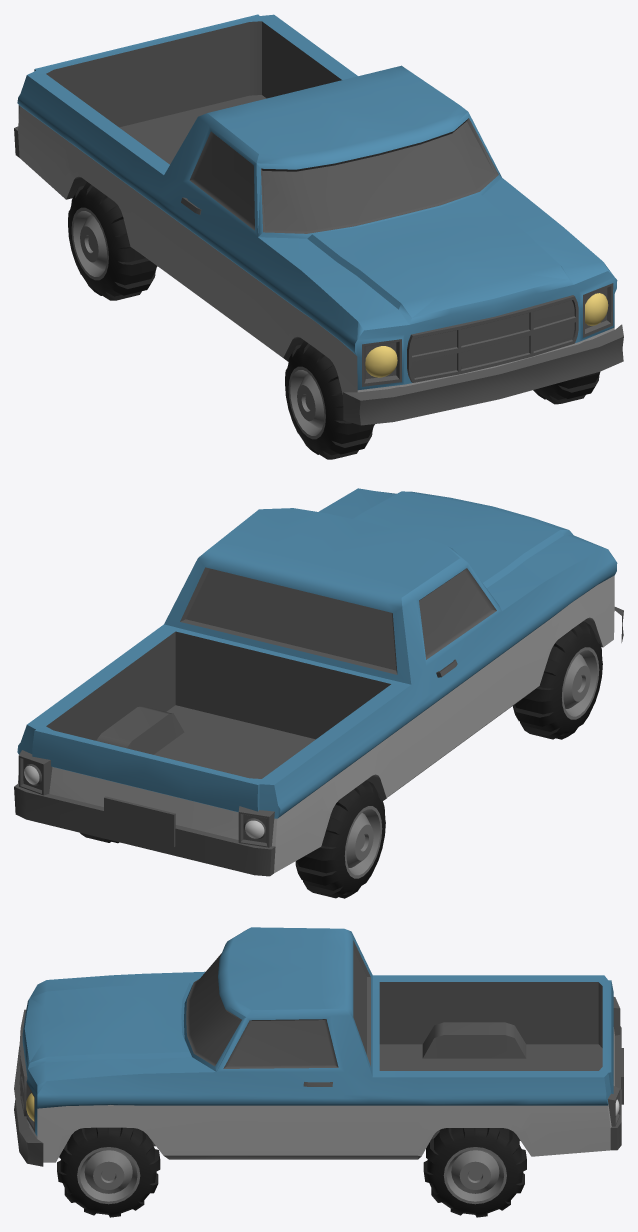
Rendered from pickup-quaternius.glb.
3 renders of one model, top to bottom at view 1: azimuth 30°, elevation 25°; view 2: azimuth 150°, elevation 25°; view 3: azimuth 270°, elevation 25°, orthographic. The views are drawn at different scales.
Parts seen in each view (by area): view 1: body, RRW, FRW, FLW; view 2: body, RRW, FRW; view 3: body, RLW, FLW.
Part boxes in pixels (left/top/right/bottom): body: left=14, top=14, right=623, bottom=425; RRW: left=68, top=182, right=157, bottom=300; FRW: left=285, top=340, right=374, bottom=459; FLW: left=533, top=372, right=600, bottom=404; body: left=14, top=488, right=623, bottom=876; RRW: left=295, top=780, right=385, bottom=898; FRW: left=512, top=621, right=602, bottom=739; body: left=14, top=927, right=623, bottom=1166; RLW: left=423, top=1128, right=526, bottom=1217; FLW: left=57, top=1127, right=160, bottom=1217.
Bounding box in the file's own units: 2.23 × 1.78 × 5.
